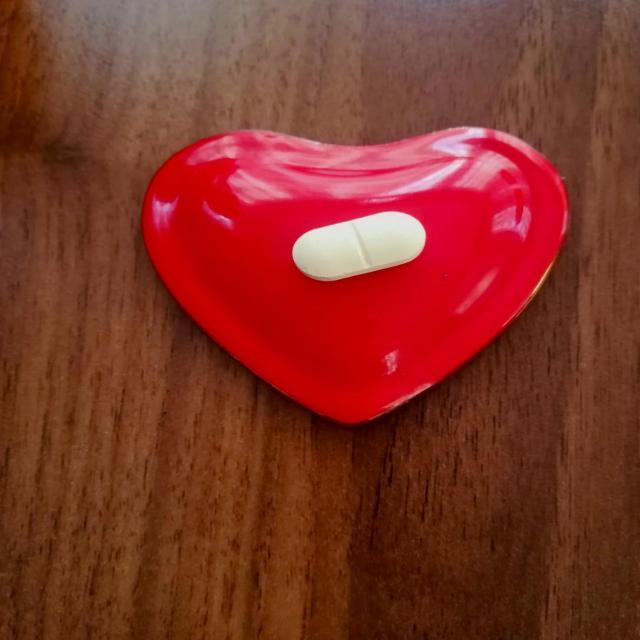pill: (290, 208, 430, 284)
